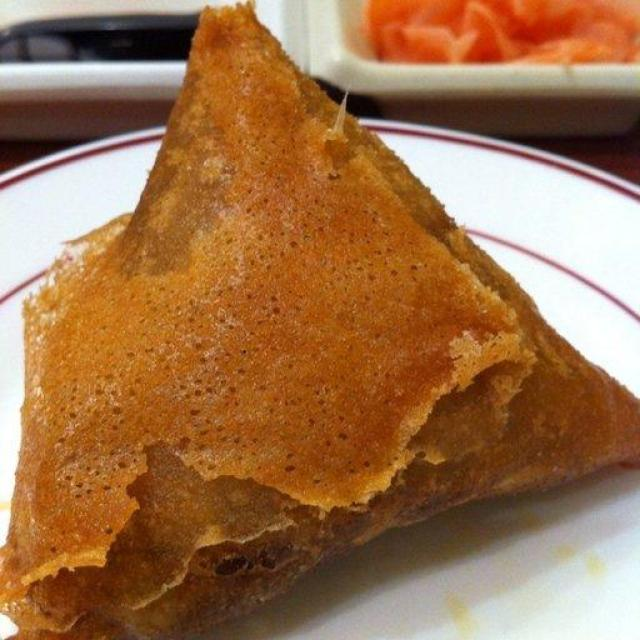food_waste: (1, 1, 640, 640)
